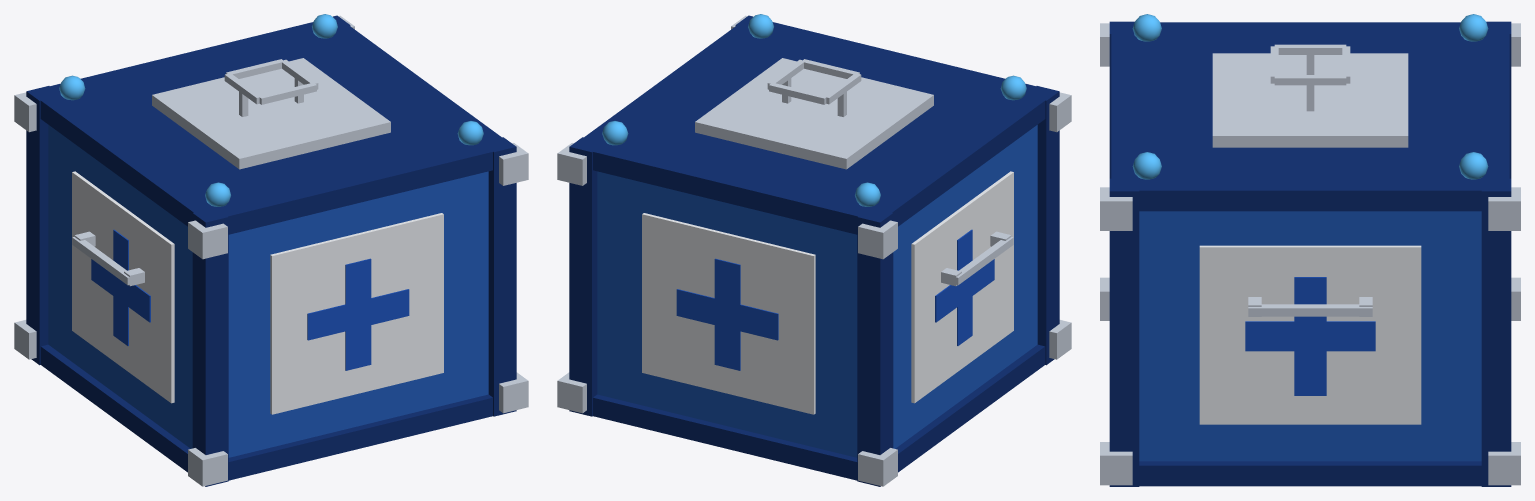
The model's file is SupplyCrate.glb.
The picture shows the model from 3 angles, left to right: view 1: azimuth 30°, elevation 25°; view 2: azimuth 150°, elevation 25°; view 3: azimuth 270°, elevation 25°; orthographic projection. The views are drawn at different scales.
Parts seen in each view (by area): view 1: SupplyCrate; view 2: SupplyCrate; view 3: SupplyCrate.
Part boxes in pixels (<box>): SupplyCrate: <box>14,14,528,486</box>; SupplyCrate: <box>557,14,1071,486</box>; SupplyCrate: <box>1100,14,1520,486</box>.
Size of the model in its own units: 1.36 by 1.15 by 1.29.
